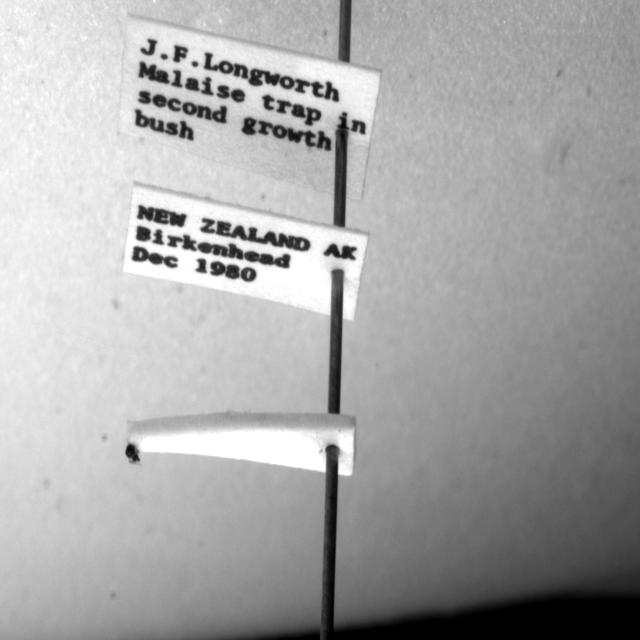typed_label: (119, 15, 381, 199), (124, 184, 368, 321)
